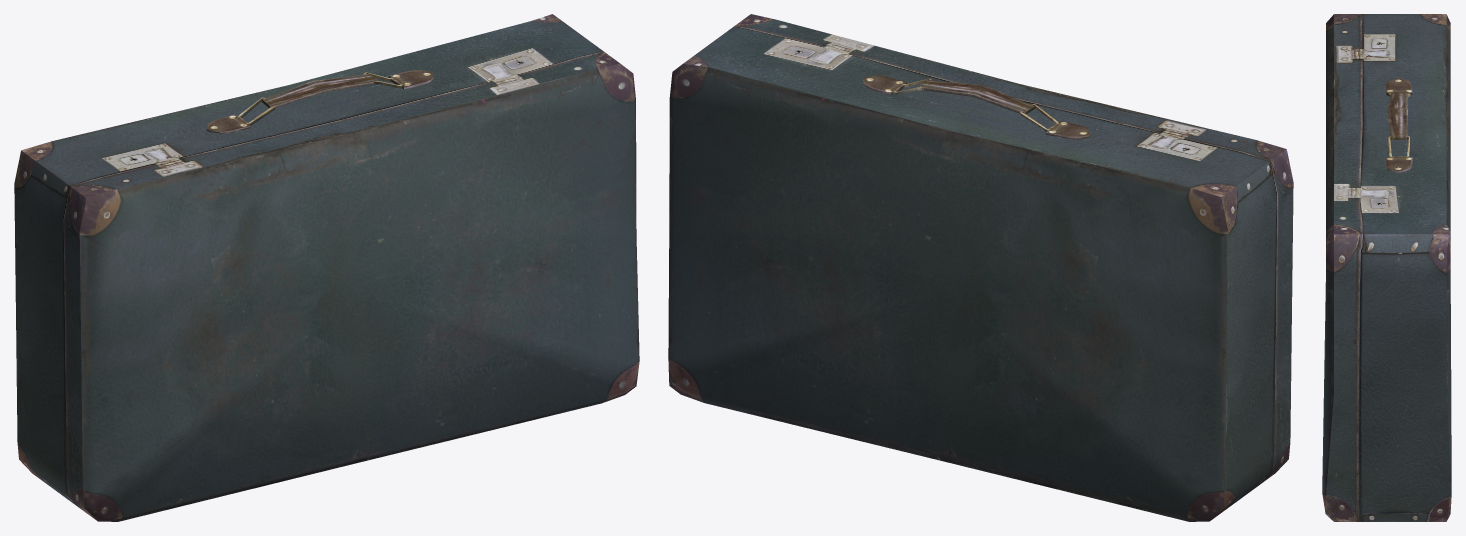
Rendered from Mala01.FBX.
3 renders of one model, left to right at view 1: azimuth 30°, elevation 25°; view 2: azimuth 150°, elevation 25°; view 3: azimuth 270°, elevation 25°, orthographic. The views are drawn at different scales.
Visible parts, largest first — view 1: kofer; view 2: kofer; view 3: kofer.
Boxes of the visible parts, <box> form: kofer: <box>14,14,639,521</box>; kofer: <box>668,14,1293,521</box>; kofer: <box>1322,14,1451,521</box>.
Bounding box in the file's own units: 248 × 150 × 58.16.
